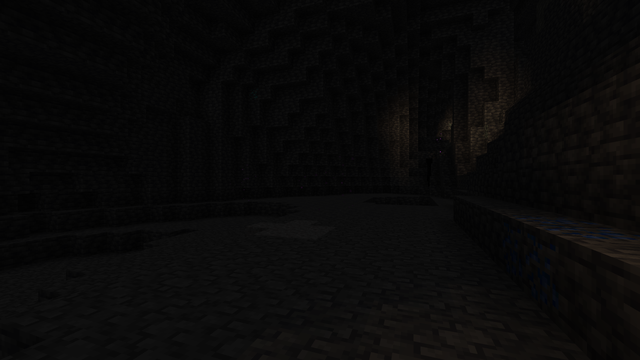endermens: (425, 157, 431, 185)
